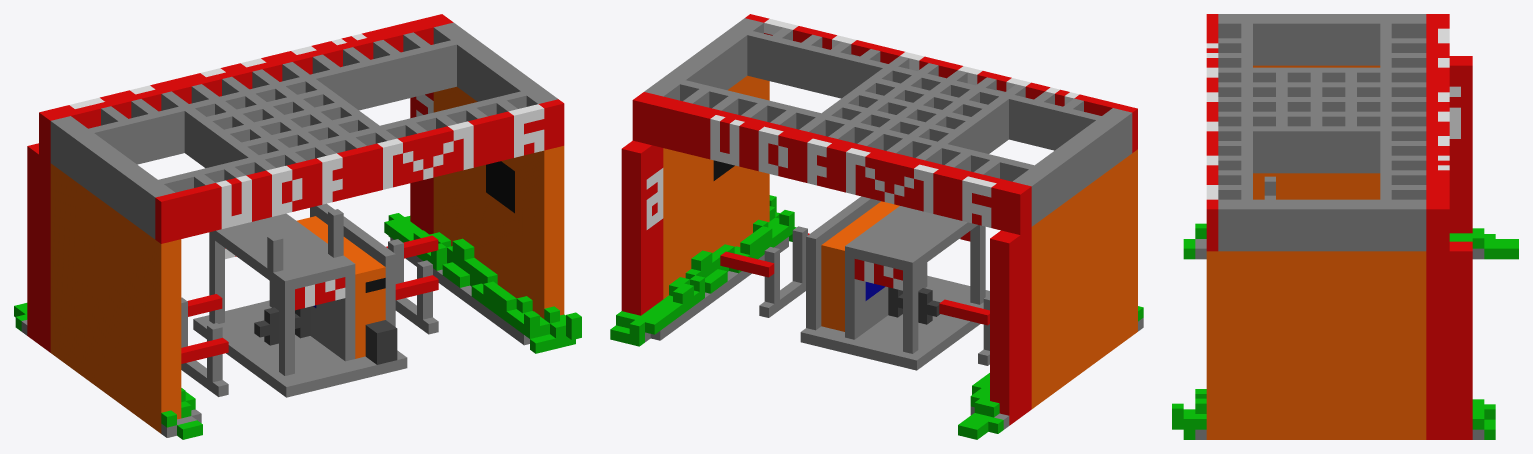
The model's file is porteria6_texture_embed.fbx.
The picture shows the model from 3 angles, left to right: view 1: azimuth 30°, elevation 25°; view 2: azimuth 150°, elevation 25°; view 3: azimuth 270°, elevation 25°; orthographic projection. The views are drawn at different scales.
Visible parts, largest first — view 1: porteria 6; view 2: porteria 6; view 3: porteria 6.
Boxes of the visible parts, <box> form: porteria 6: <box>14,14,581,439</box>; porteria 6: <box>610,14,1143,439</box>; porteria 6: <box>1172,14,1518,439</box>.
Bounding box in the file's own units: 400 × 220 × 300.
1 material, 1 textured.
